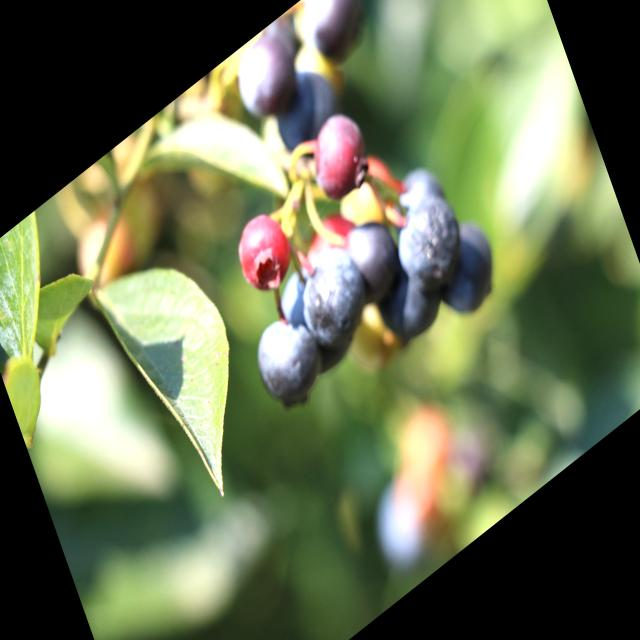blueberry: (261, 245, 361, 400), (382, 174, 478, 319), (242, 291, 338, 435), (285, 230, 376, 368), (420, 202, 509, 337), (260, 46, 352, 176), (224, 18, 308, 141), (338, 201, 414, 320), (370, 251, 448, 366), (291, 0, 381, 87), (386, 146, 454, 239)
blueberry-halfripe: (303, 104, 378, 219), (229, 201, 300, 306)
